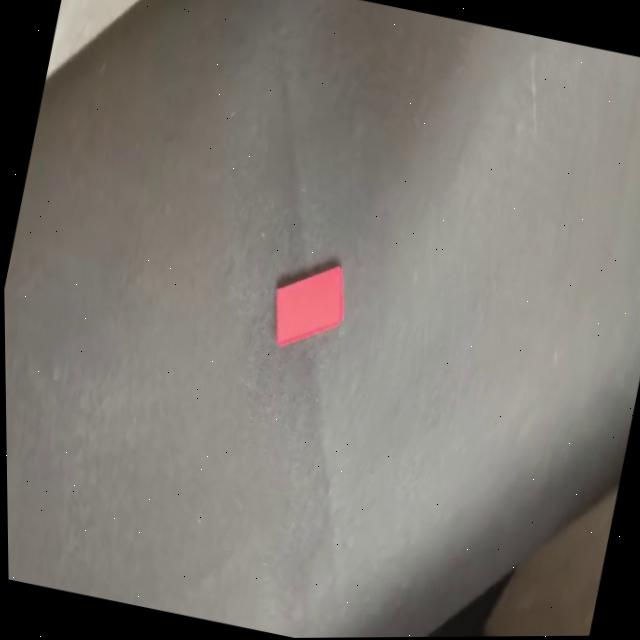red block: (263, 250, 355, 358)
